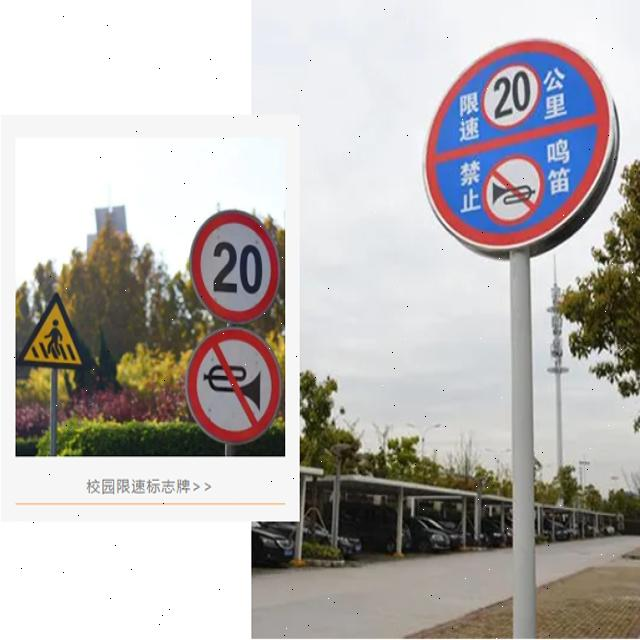speed limit 20: (189, 209, 282, 322), (479, 64, 544, 129)
